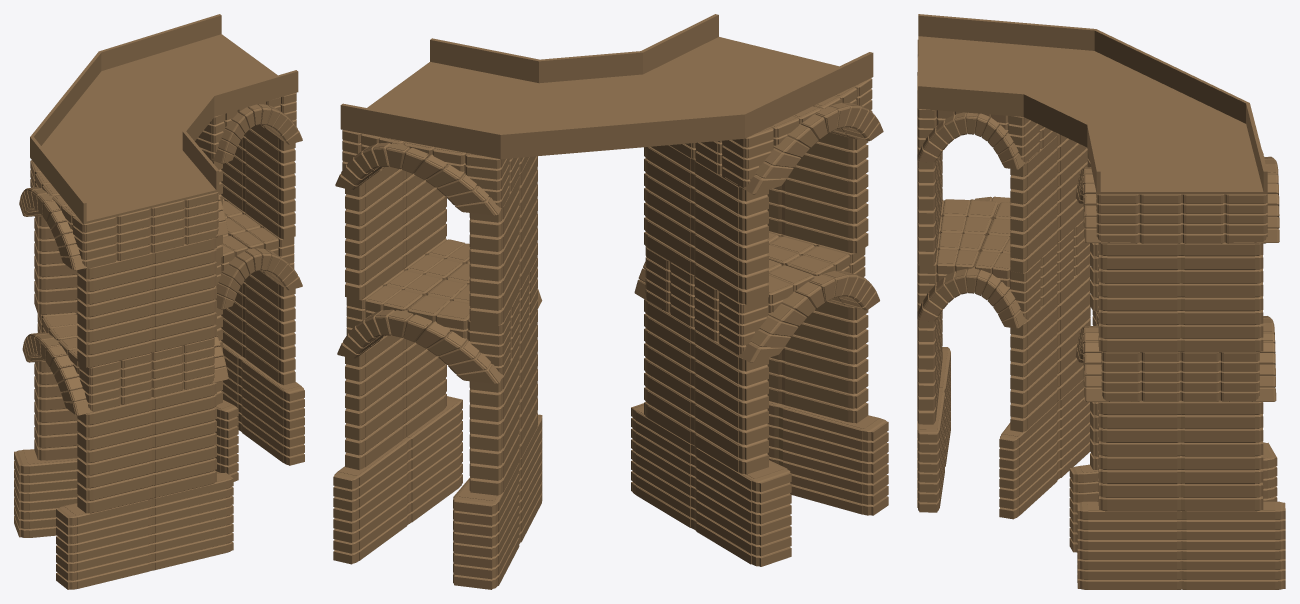
File: CurvaPlana.fbx
The picture shows the model from 3 angles, left to right: view 1: azimuth 30°, elevation 25°; view 2: azimuth 150°, elevation 25°; view 3: azimuth 270°, elevation 25°; orthographic projection. The views are drawn at different scales.
Parts seen in each view (by area): view 1: Ladrillo.Ancho.001; view 2: Ladrillo.Ancho.001; view 3: Ladrillo.Ancho.001.
Boxes of the visible parts, x1,y1,x2,y2 form: Ladrillo.Ancho.001: [14, 14, 304, 589]; Ladrillo.Ancho.001: [333, 14, 888, 589]; Ladrillo.Ancho.001: [917, 14, 1285, 589].
Bounding box in the file's own units: 7.8 × 9.22 × 7.34.
